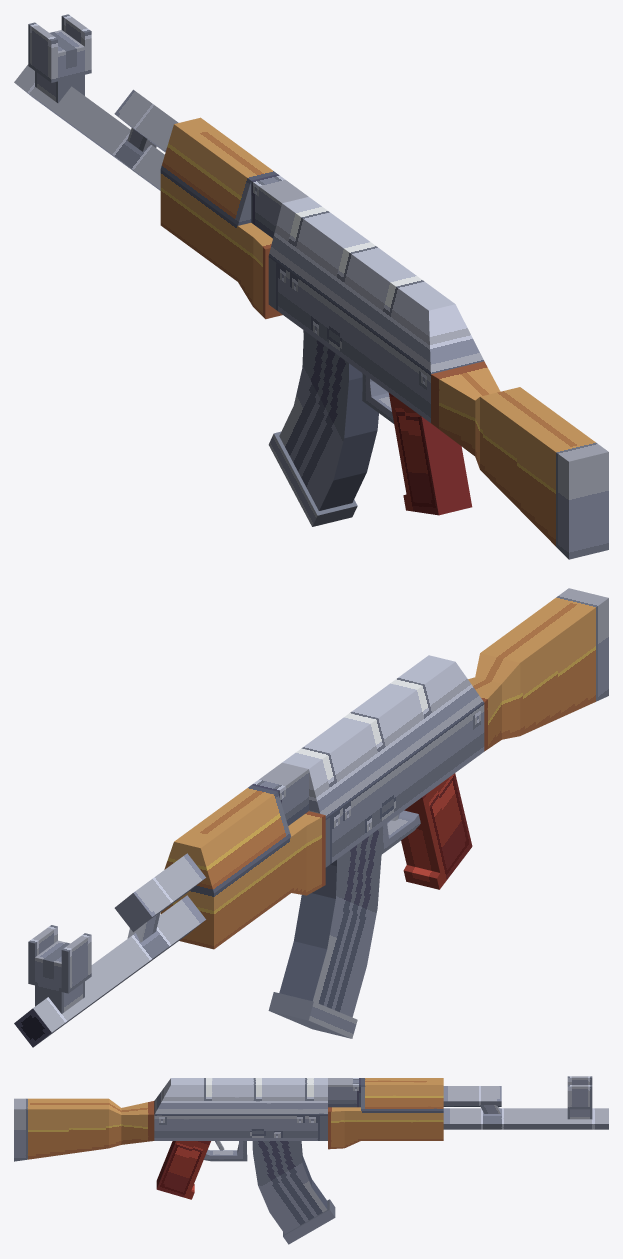
The picture shows the model from 3 angles, top to bottom: view 1: azimuth 30°, elevation 25°; view 2: azimuth 150°, elevation 25°; view 3: azimuth 270°, elevation 25°; orthographic projection. The views are drawn at different scales.
Parts seen in each view (by area): view 1: cube (×13), cuboid (×2); view 2: cube (×13), cuboid (×2); view 3: cube (×12), cuboid (×2).
Boxes of the visible parts, bbox=[...] form: cube (×13): bbox=[14, 14, 608, 559]; cuboid (×2): bbox=[268, 330, 378, 526]; cube (×13): bbox=[14, 588, 608, 1047]; cuboid (×2): bbox=[268, 826, 382, 1038]; cube (×12): bbox=[14, 1078, 608, 1199]; cuboid (×2): bbox=[252, 1141, 335, 1244].
Size of the model in its own units: 0.2812 by 1.32 by 4.5.
3 materials, 3 textured.
